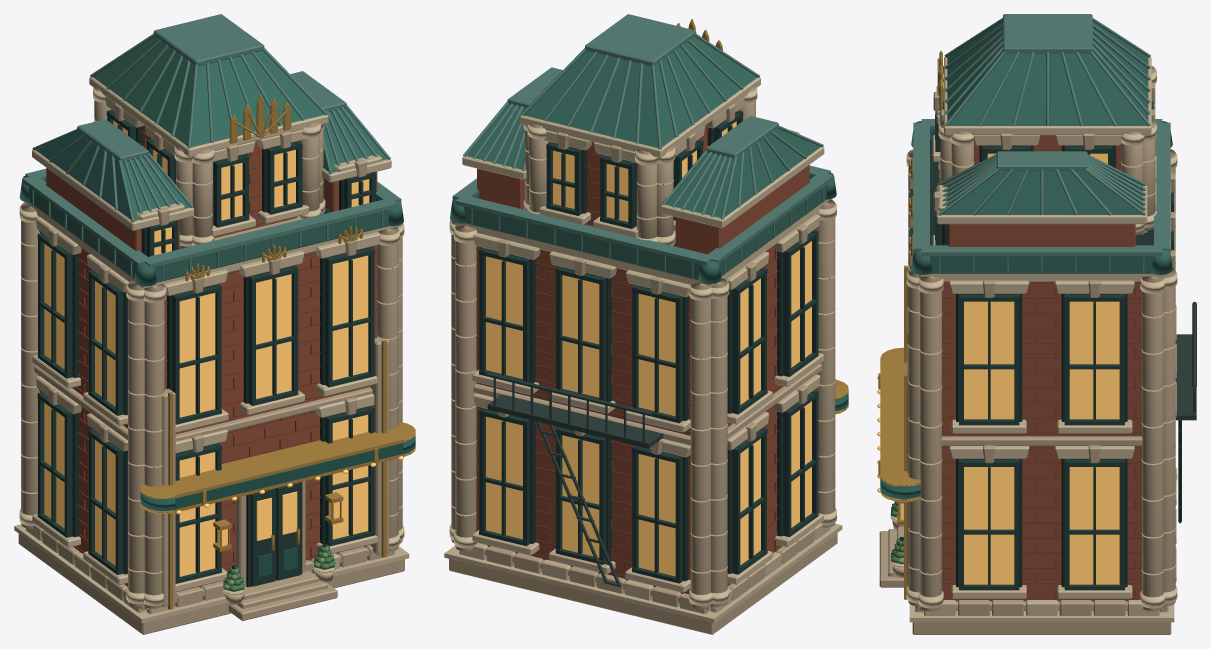
3 renders of one model, left to right at view 1: azimuth 30°, elevation 25°; view 2: azimuth 150°, elevation 25°; view 3: azimuth 270°, elevation 25°, orthographic. The views are drawn at different scales.
Visible parts, largest first — view 1: expansion_hotel_3_geometry; view 2: expansion_hotel_3_geometry; view 3: expansion_hotel_3_geometry.
Boxes of the visible parts, <box> form: expansion_hotel_3_geometry: <box>14,14,415,634</box>; expansion_hotel_3_geometry: <box>444,14,848,634</box>; expansion_hotel_3_geometry: <box>877,14,1196,634</box>.
Bounding box in the file's own units: 0.9747 × 1.76 × 0.9479.
